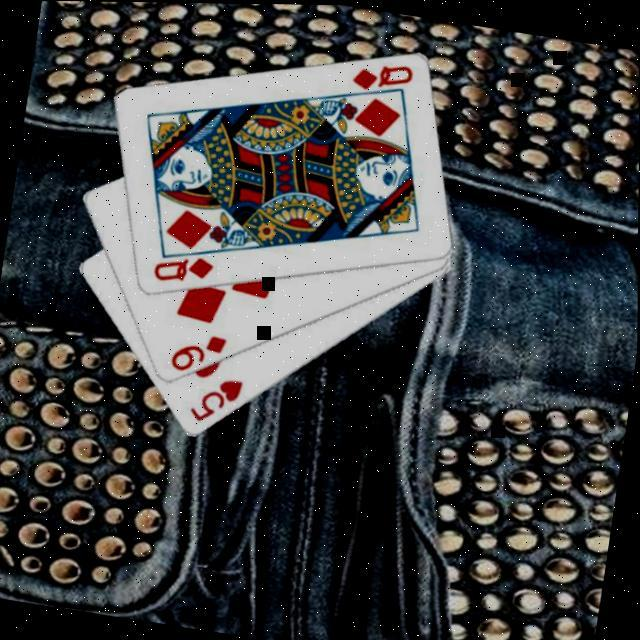5H: (184, 369, 247, 430)
9D: (166, 324, 230, 380)
QD: (346, 52, 416, 98), (148, 245, 217, 291)
